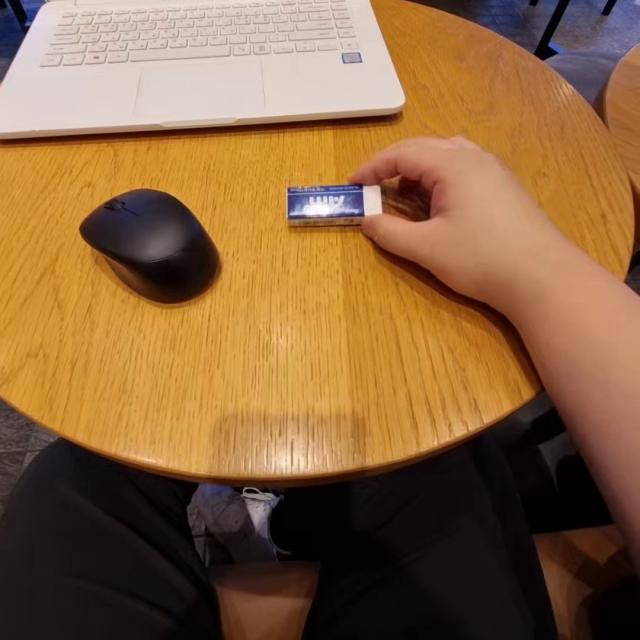eraser: (272, 185, 388, 229)
grab_eraser: (279, 135, 527, 286)
hand: (366, 136, 504, 272)
mouse: (82, 190, 220, 305)
